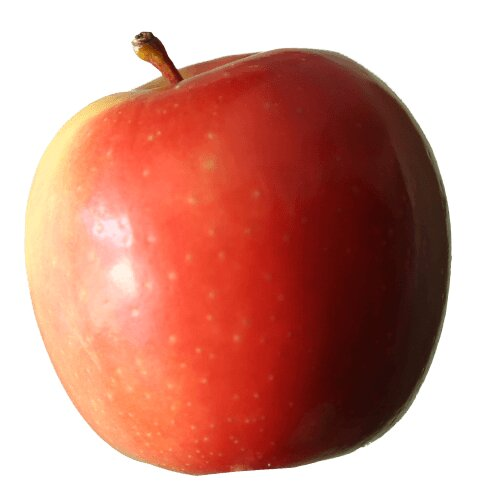apple: (27, 47, 451, 476)
